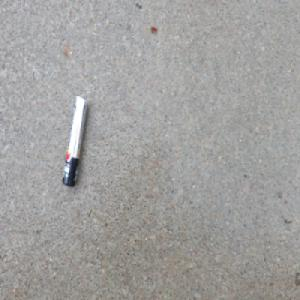Battery: (61, 93, 88, 189)
